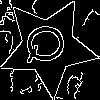Q: (23, 21, 75, 66)
